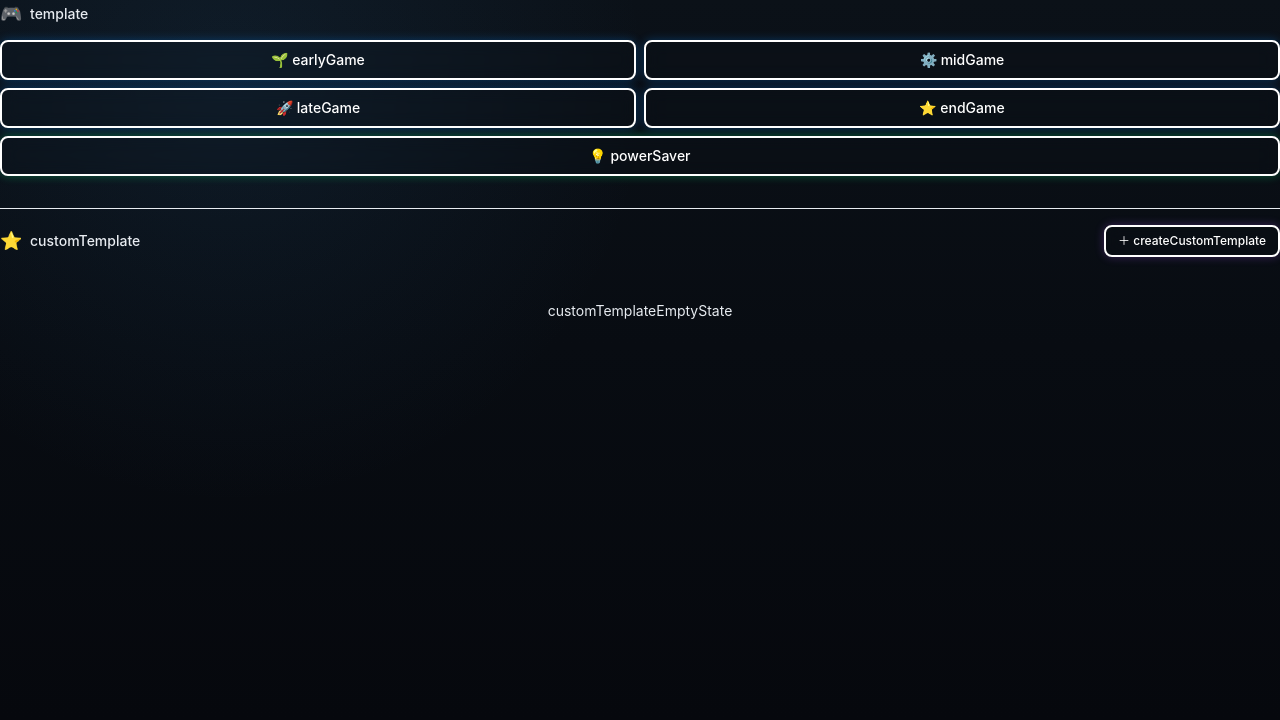
Test: TemplateSelector › Confirmation Modal › テンプレートボタンをクリックすると確認モーダルが表示される
The width and height of the screenshot is (1280, 720).
Click the button "🌱earlyGame": coordinates (318, 60) [0,40,636,80]
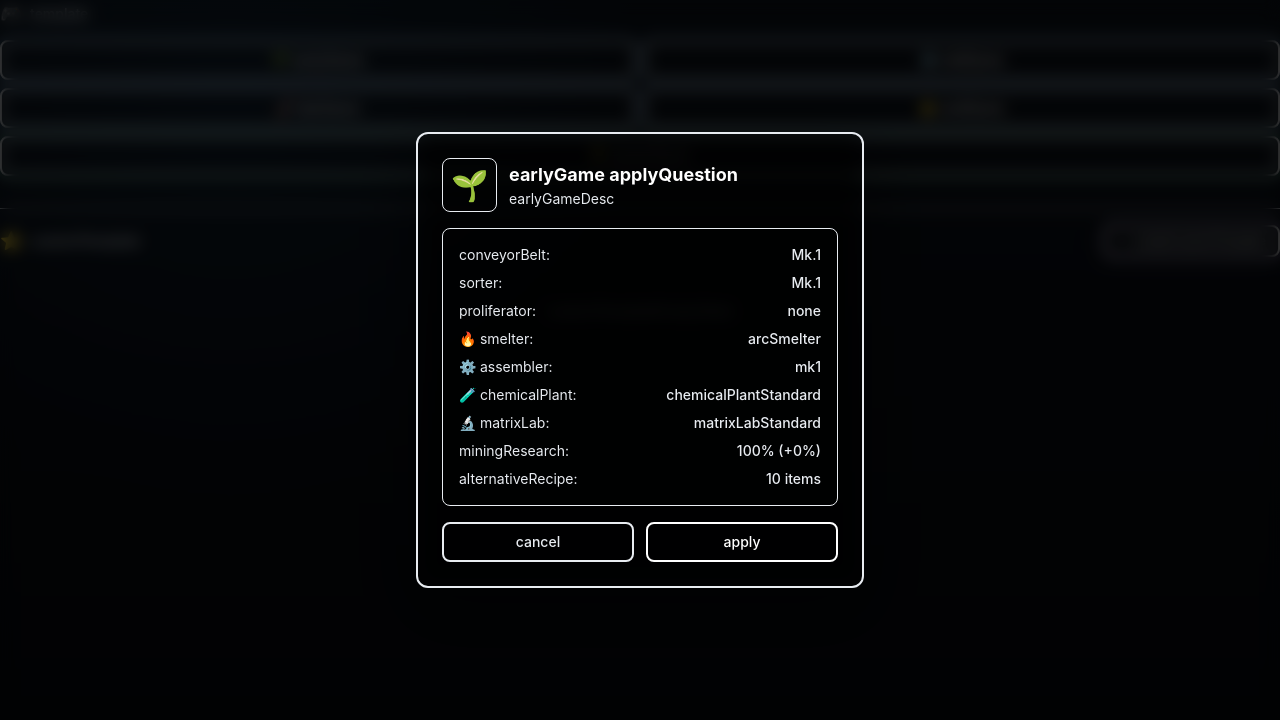
Check: the heading "earlyGame applyQuestion" is shown, box [509,161,738,189]
Check: the text "earlyGameDesc" is shown, box [509,190,614,207]
